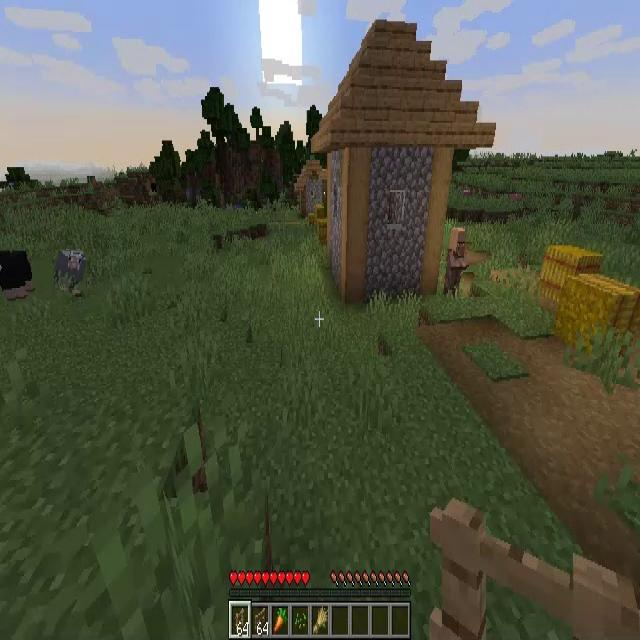people: (444, 229, 468, 295)
sheep: (0, 251, 34, 303), (54, 250, 86, 290)
